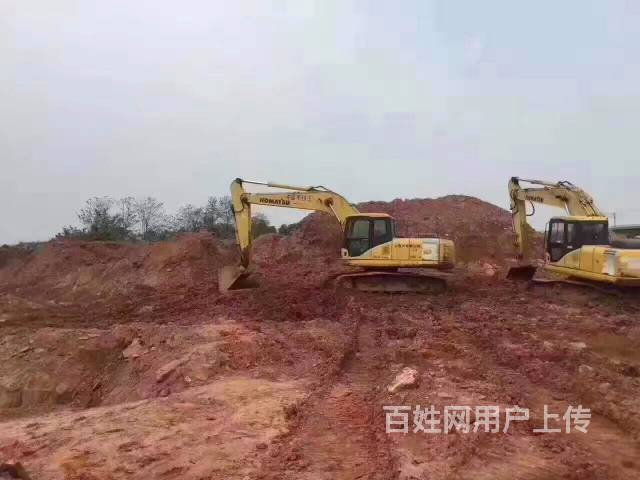excavator: (214, 172, 459, 307), (498, 169, 640, 301)
